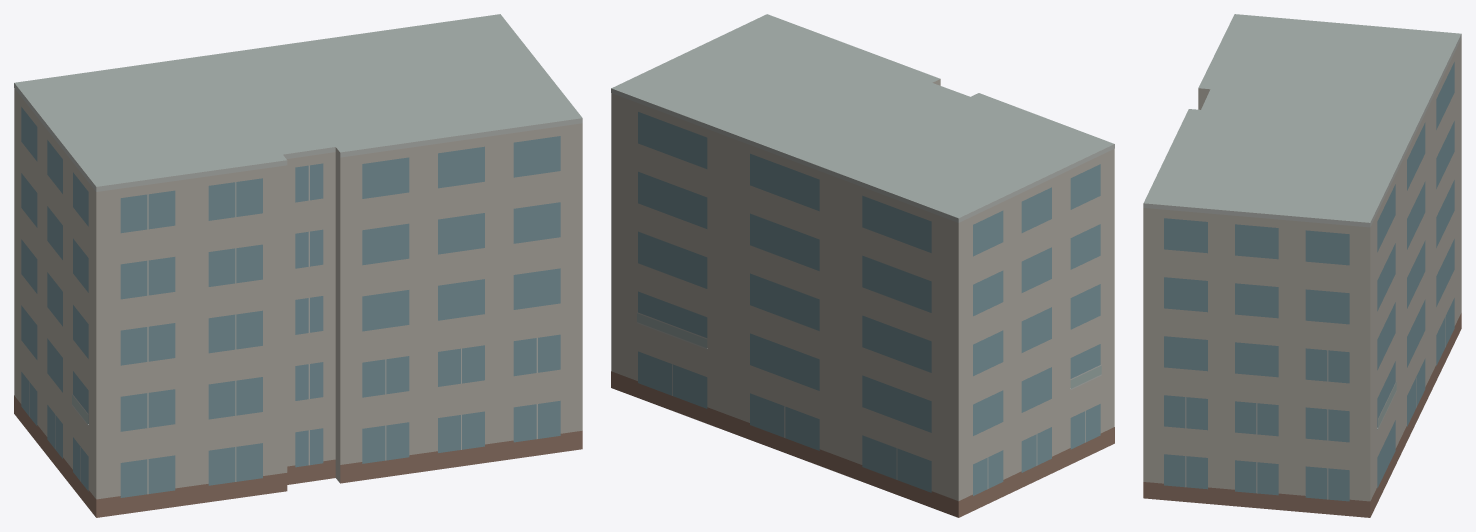
File: survey-upis-32966937.glb
The picture shows the model from 3 angles, left to right: view 1: azimuth 30°, elevation 25°; view 2: azimuth 150°, elevation 25°; view 3: azimuth 270°, elevation 25°; orthographic projection. The views are drawn at different scales.
Parts seen in each view (by area): view 1: survey-upis-32966937.tmp; view 2: survey-upis-32966937.tmp; view 3: survey-upis-32966937.tmp.
Part boxes in pixels (x1=…): survey-upis-32966937.tmp: x1=14, y1=14, x2=582, y2=517; survey-upis-32966937.tmp: x1=611, y1=14, x2=1114, y2=517; survey-upis-32966937.tmp: x1=1143, y1=14, x2=1461, y2=517.
Size of the model in its own units: 24 by 15.8 by 15.45.
